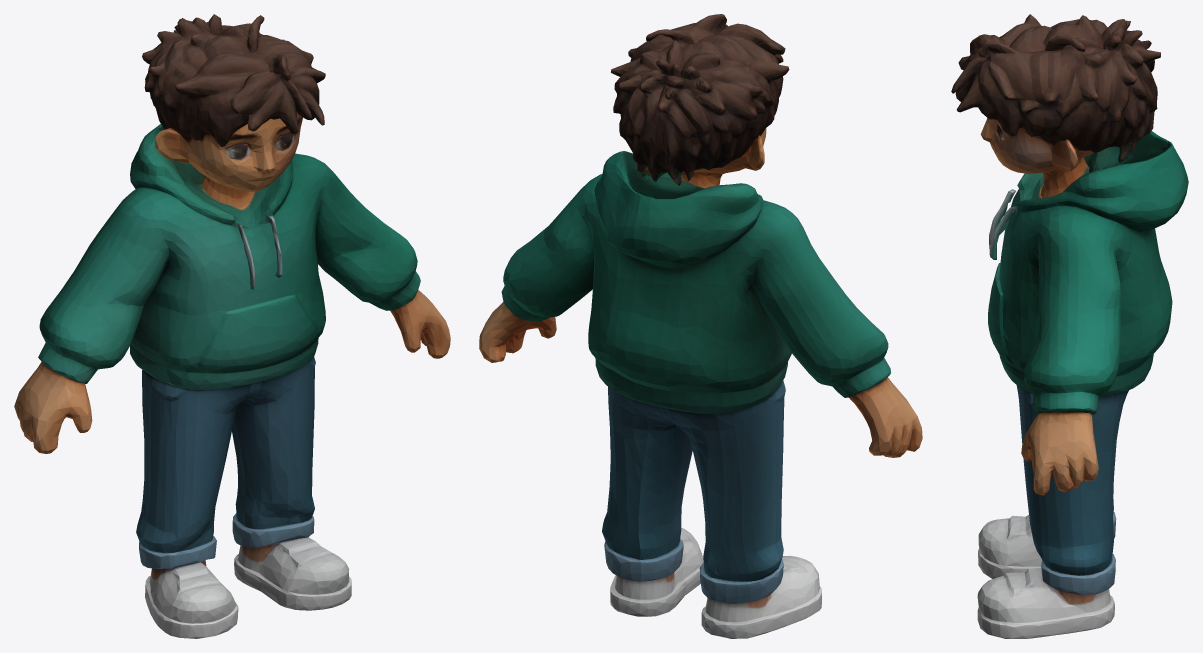
File: personaje_base.glb
3 renders of one model, left to right at view 1: azimuth 30°, elevation 25°; view 2: azimuth 150°, elevation 25°; view 3: azimuth 270°, elevation 25°, orthographic. The views are drawn at different scales.
Parts seen in each view (by area): view 1: world; view 2: world; view 3: world.
Boxes of the visible parts, bbox=[...] form: world: bbox=[14, 14, 450, 638]; world: bbox=[479, 14, 922, 638]; world: bbox=[951, 14, 1188, 638].
Bounding box in the file's own units: 0.767 × 0.9933 × 0.3737.
Materials: 1 (1 with a texture image).
